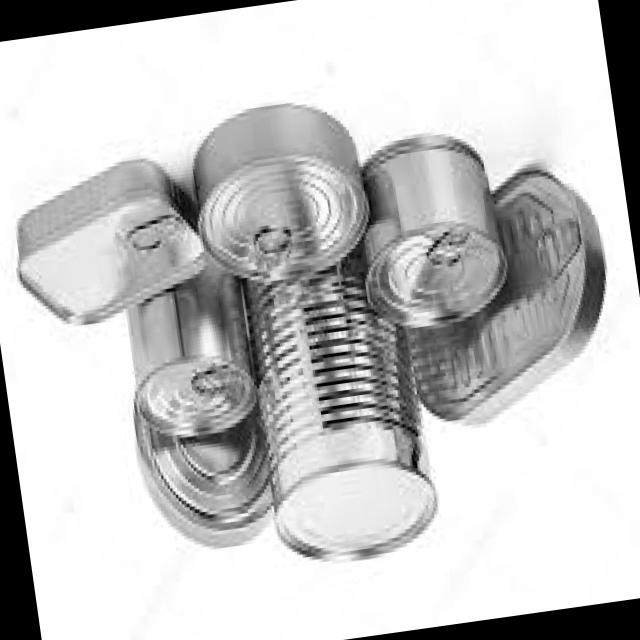kim_loai: (247, 240, 440, 560), (403, 166, 609, 427), (130, 261, 273, 547), (14, 155, 204, 324), (191, 99, 366, 281), (360, 131, 508, 327)
